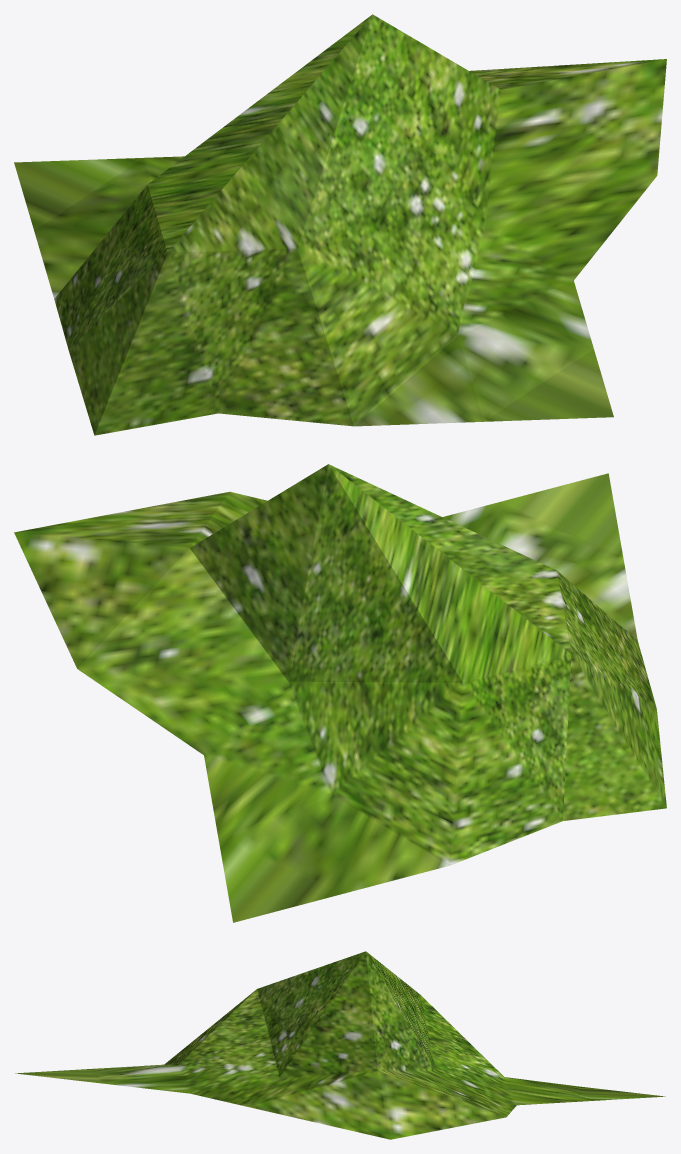
The model's file is spaceship2.obj.
3 views of the same model, one above another, from view 1: azimuth 30°, elevation 25°; view 2: azimuth 150°, elevation 25°; view 3: azimuth 270°, elevation 25° (orthographic). The views are drawn at different scales.
Parts seen in each view (by area): view 1: spaceship.001; view 2: spaceship.001; view 3: spaceship.001.
Part boxes in pixels (box(x1,y1,x2,y2)): spaceship.001: box(14, 14, 666, 435); spaceship.001: box(14, 464, 666, 922); spaceship.001: box(15, 951, 665, 1139).
Bounding box in the file's own units: 5.01 × 2.39 × 6.85.
Materials: 1 (1 with a texture image).
